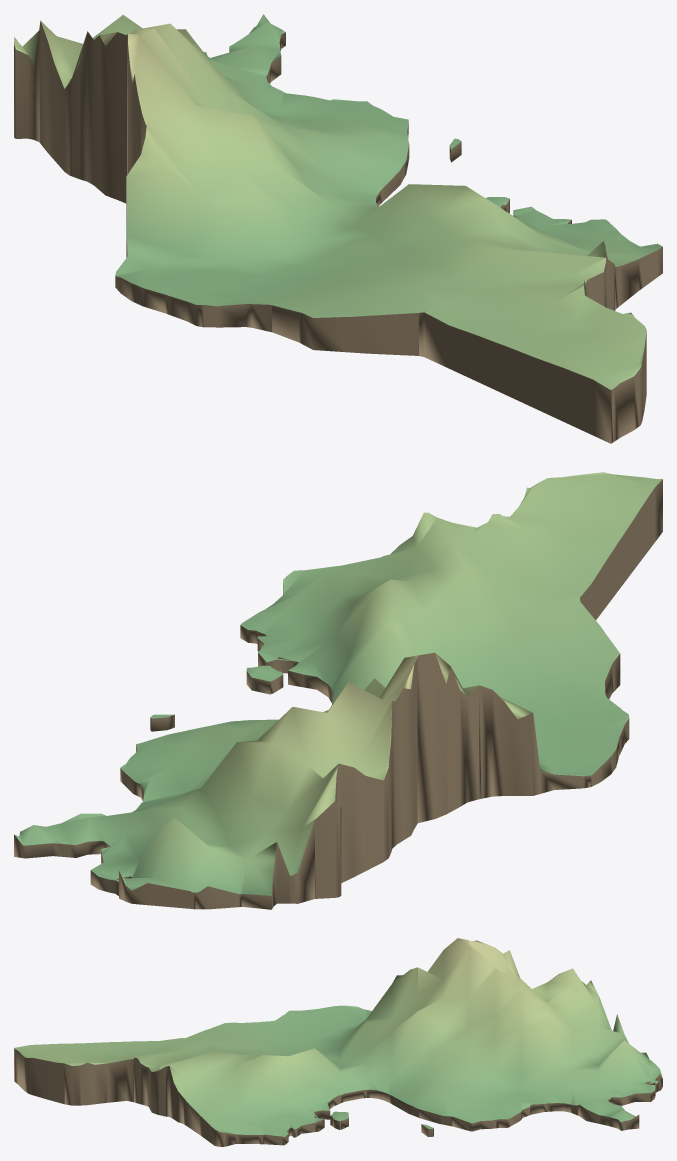
Rendered from TUN.glb.
3 renders of one model, top to bottom at view 1: azimuth 30°, elevation 25°; view 2: azimuth 150°, elevation 25°; view 3: azimuth 270°, elevation 25°, orthographic. The views are drawn at different scales.
Visible parts, largest first — view 1: TUN; view 2: TUN; view 3: TUN.
Boxes of the visible parts, left/top/right/bottom form: TUN: left=14, top=14, right=662, bottom=443; TUN: left=14, top=472, right=662, bottom=909; TUN: left=14, top=938, right=662, bottom=1146.
Size of the model in its own units: 0.8929 by 0.338 by 1.88.
